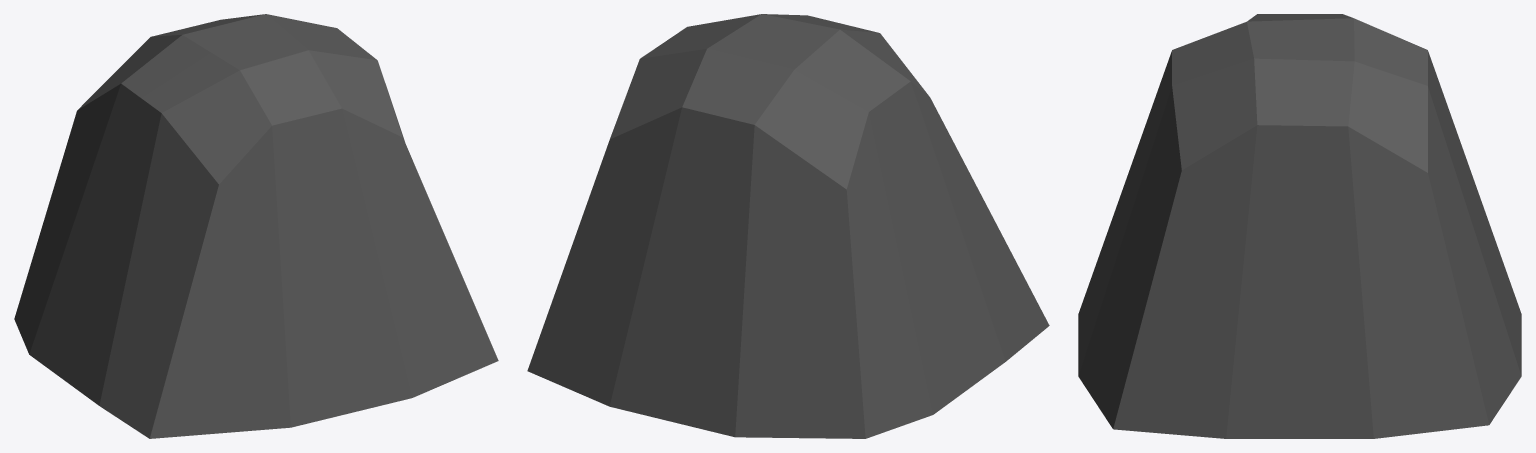
The model's file is Rock.fbx.
3 views of the same model, side by side, from view 1: azimuth 30°, elevation 25°; view 2: azimuth 150°, elevation 25°; view 3: azimuth 270°, elevation 25° (orthographic). The views are drawn at different scales.
Visible parts, largest first — view 1: Rock_0, Rock_1; view 2: Rock_1, Rock_0; view 3: Rock_0, Rock_1.
Boxes of the visible parts, x1,y1,x2,y2 form: Rock_0: [64, 32, 498, 438]; Rock_1: [14, 14, 356, 379]; Rock_1: [527, 31, 969, 438]; Rock_0: [664, 14, 1049, 387]; Rock_0: [1078, 14, 1304, 438]; Rock_1: [1300, 14, 1521, 438].
Bounding box in the file's own units: 3 × 2.3 × 3.
Materials: 2 (2 with a texture image).
